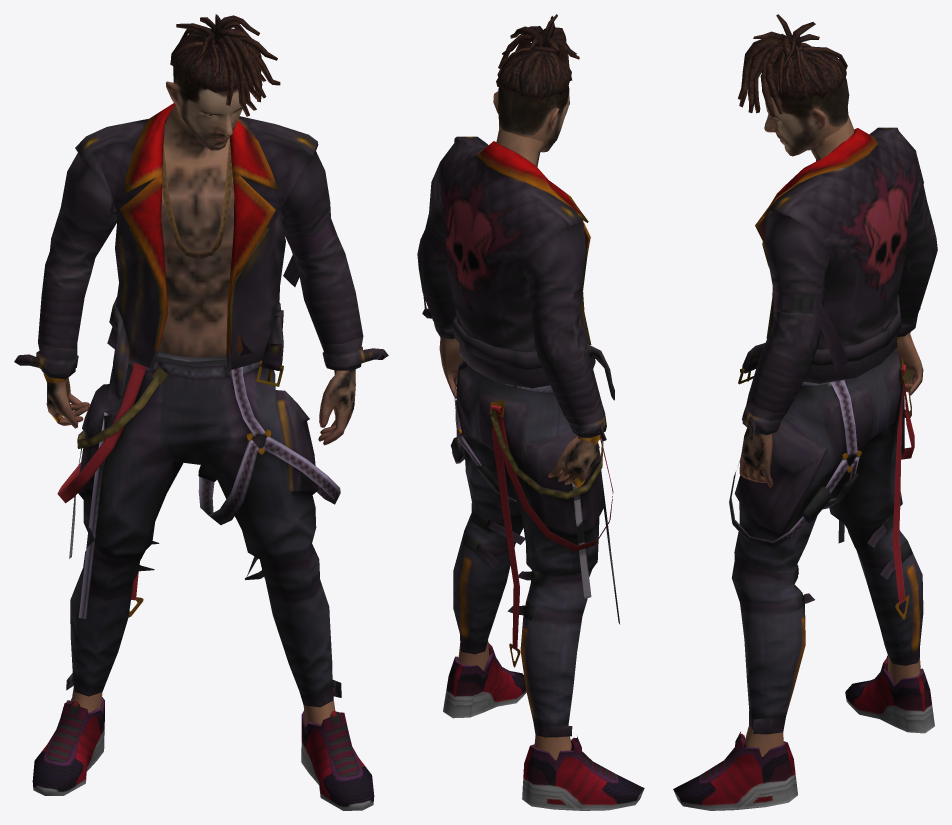
The model's file is Trap.FBX.
3 renders of one model, left to right at view 1: azimuth 30°, elevation 25°; view 2: azimuth 150°, elevation 25°; view 3: azimuth 270°, elevation 25°, orthographic. The views are drawn at different scales.
Visible parts, largest first — view 1: Mesh_0033_rip; view 2: Mesh_0033_rip; view 3: Mesh_0033_rip.
Boxes of the visible parts, x1,y1,x2,y2 form: Mesh_0033_rip: (14,14,388,810); Mesh_0033_rip: (417,14,644,810); Mesh_0033_rip: (673,14,937,810).
Bounding box in the file's own units: 3.8 × 9.66 × 3.12.
Materials: 1 (1 with a texture image).
